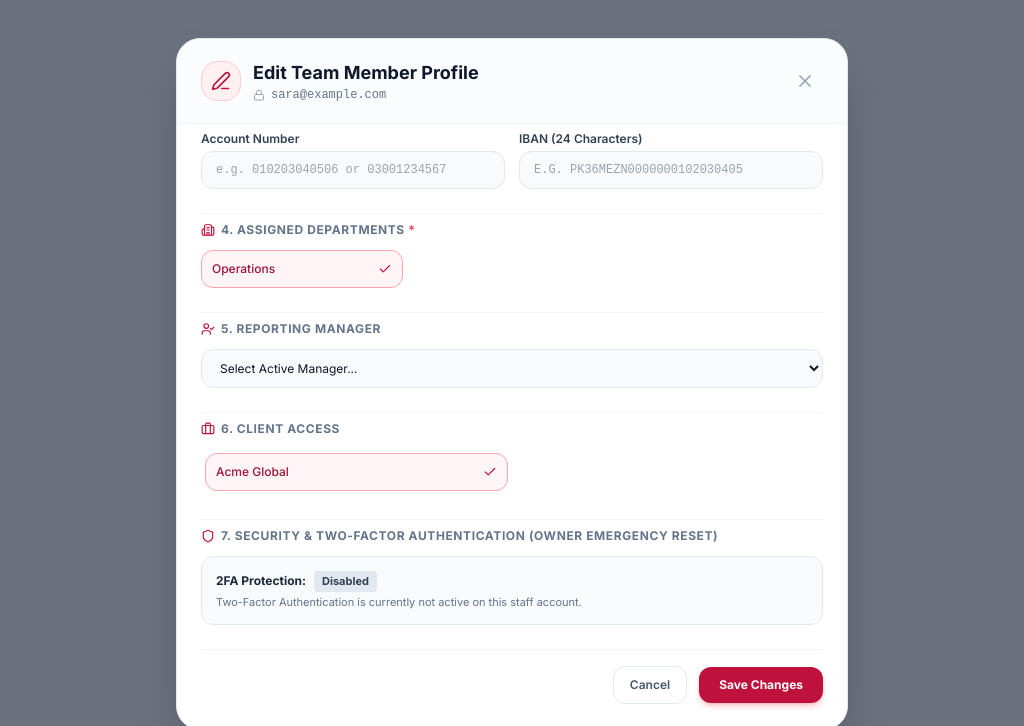
Test: Team Member Client Assignment & Scope Authorization Suite › 4. Manager Scope Enforcement & Authorization Safeguards › 4.2 Blocks client revocation when team member has open tasks on the client being removed
(page scrolled)
Attempt to deselect Acme Global
Click the button "Acme Global". click: x=252, y=472
box: [205, 453, 508, 491]
(page scrolled)
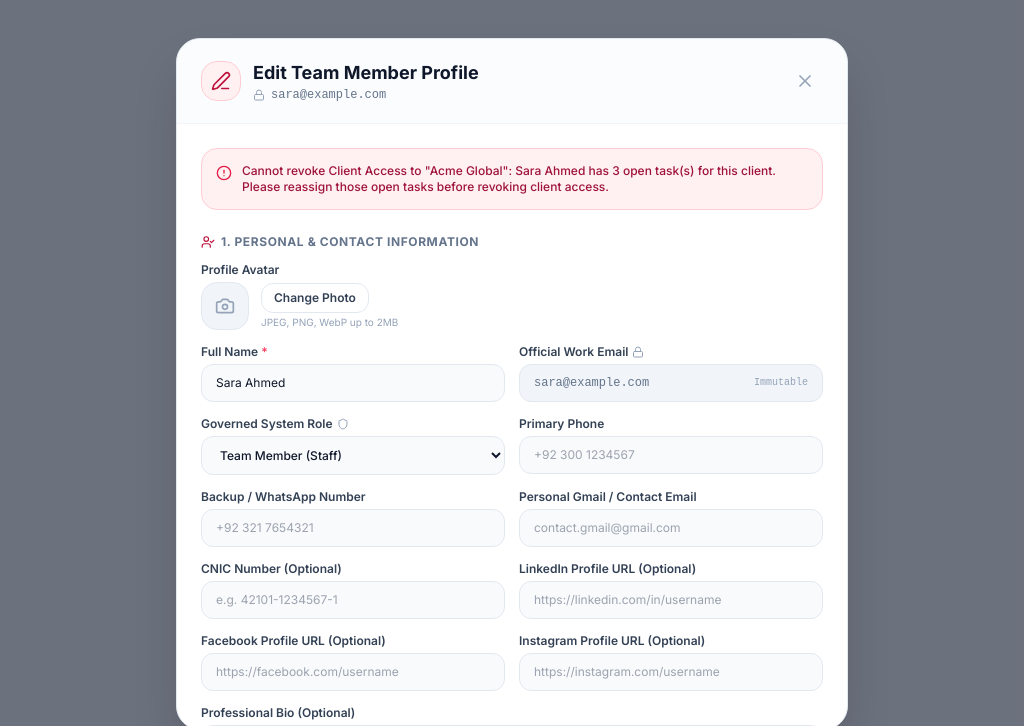
Expected: the text "Cannot revoke Client Access to \"Acme Global\": Sara Ahmed has 3 open task(s) for this client" is shown, [242, 163, 776, 194]
